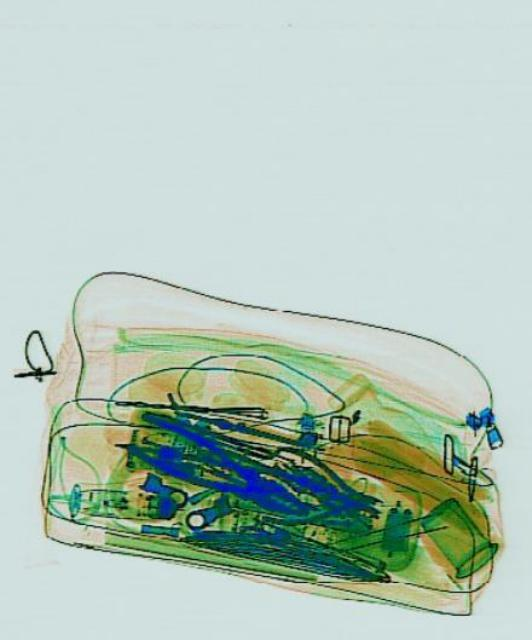Pliers: (124, 407, 315, 538), (259, 442, 389, 548)
